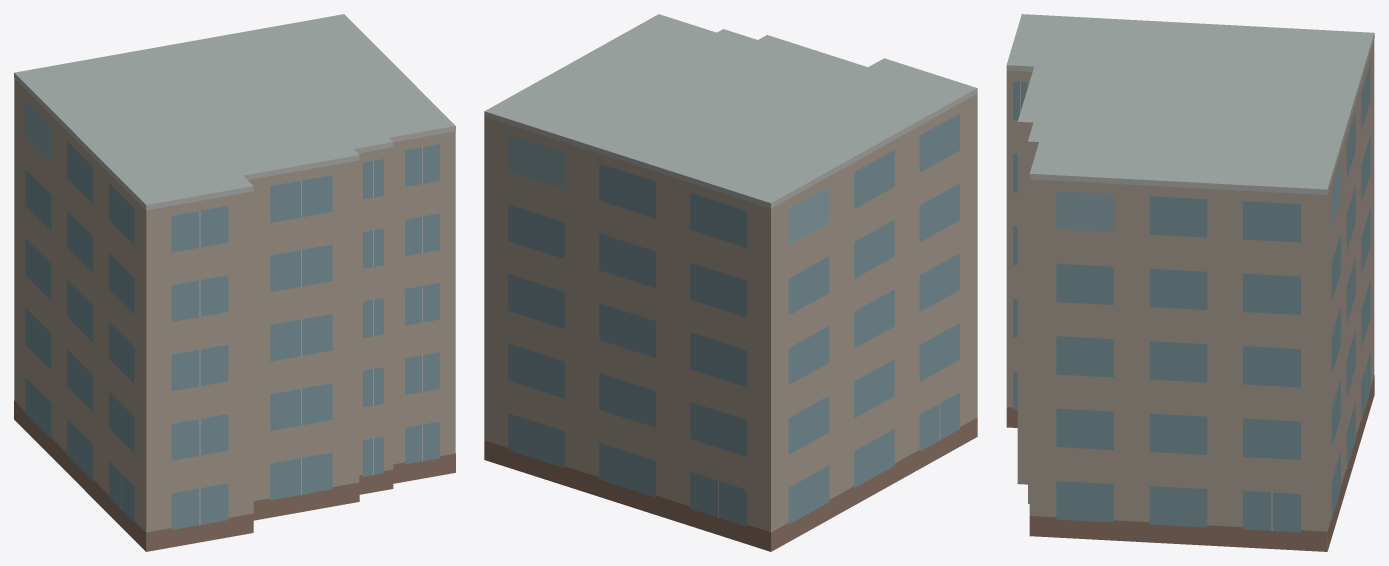
The model's file is survey-upis-32838302.glb.
The picture shows the model from 3 angles, left to right: view 1: azimuth 30°, elevation 25°; view 2: azimuth 150°, elevation 25°; view 3: azimuth 270°, elevation 25°; orthographic projection. The views are drawn at different scales.
Parts seen in each view (by area): view 1: survey-upis-32838302.tmp; view 2: survey-upis-32838302.tmp; view 3: survey-upis-32838302.tmp.
Part boxes in pixels (left/top/right/bottom): survey-upis-32838302.tmp: left=14, top=14, right=455, bottom=551; survey-upis-32838302.tmp: left=484, top=14, right=977, bottom=551; survey-upis-32838302.tmp: left=1006, top=14, right=1374, bottom=551.
Size of the model in its own units: 16.43 by 15.8 by 14.55.
